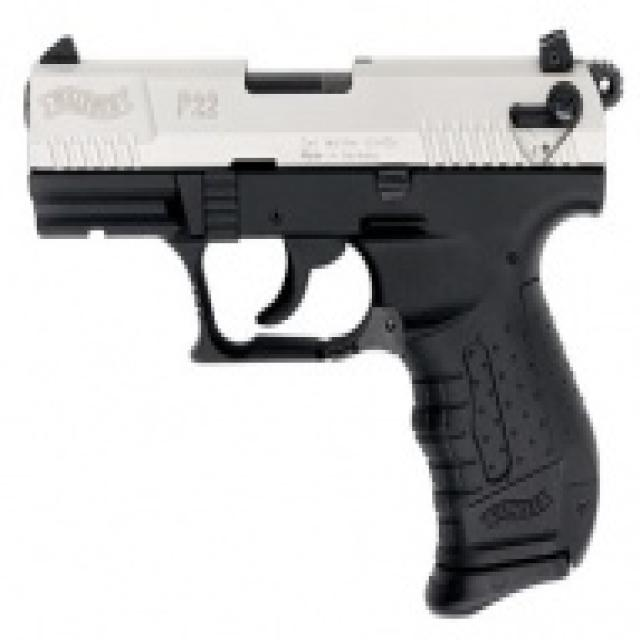pistol: (16, 17, 625, 630)
